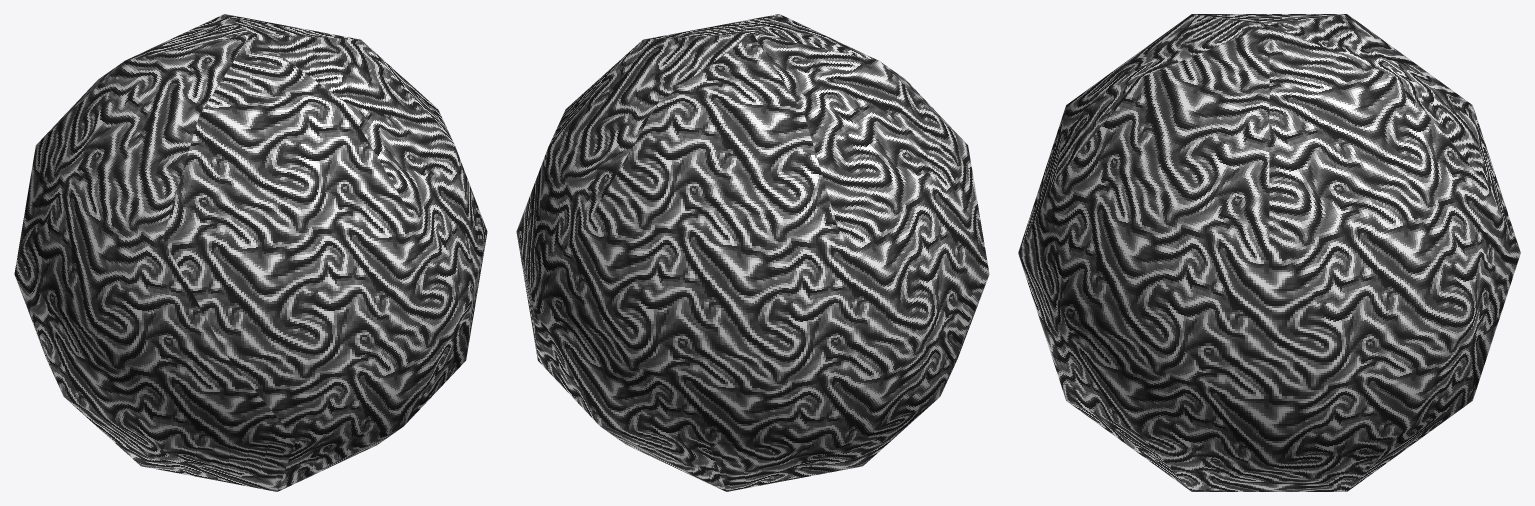
Rendered from void.glb.
3 views of the same model, side by side, from view 1: azimuth 30°, elevation 25°; view 2: azimuth 150°, elevation 25°; view 3: azimuth 270°, elevation 25° (orthographic). The views are drawn at different scales.
Parts seen in each view (by area): view 1: Plane; view 2: Plane; view 3: Plane.
Boxes of the visible parts, x1=… form: Plane: x1=14, y1=14, x2=487, y2=491; Plane: x1=516, y1=14, x2=989, y2=491; Plane: x1=1018, y1=14, x2=1520, y2=491.
Size of the model in its own units: 1.9 by 2 by 2.
1 material, 1 textured.
